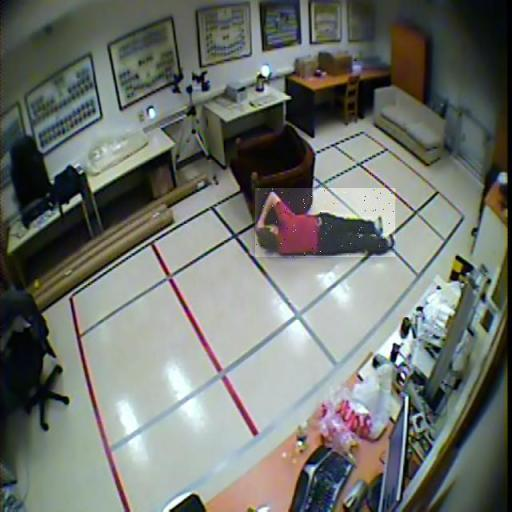Fall: (255, 188, 395, 257)
